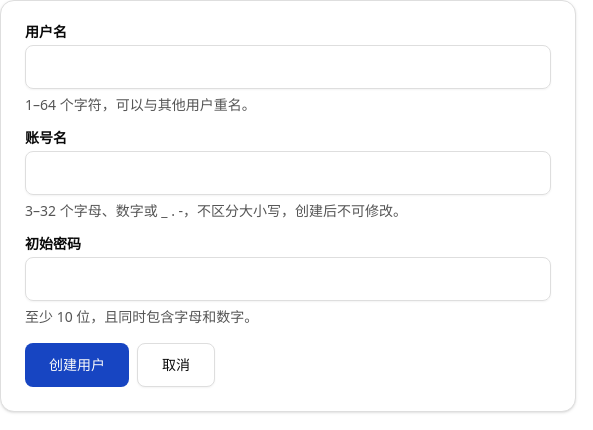
Test: UserForm：提交 › 提交期间按钮禁用并提示进行中（防重复提交）；结束后恢复
Click the button "创建用户" at (77,365), box [25,343,129,387]
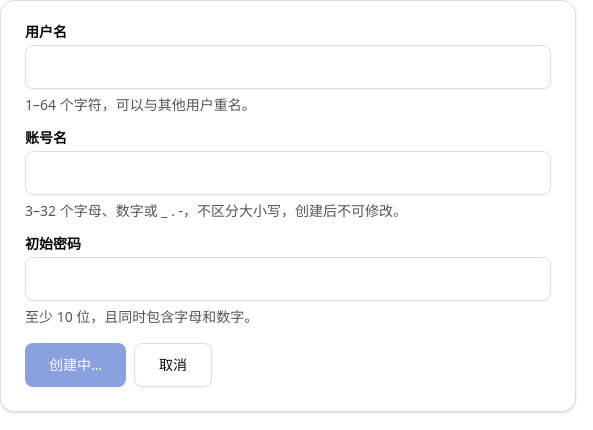
expect the button "创建中…" is disabled: met
Note: 双击：禁用后的按钮不再触发第二次提交
Click the button "创建中…" at (76,365), box [25,343,126,387]
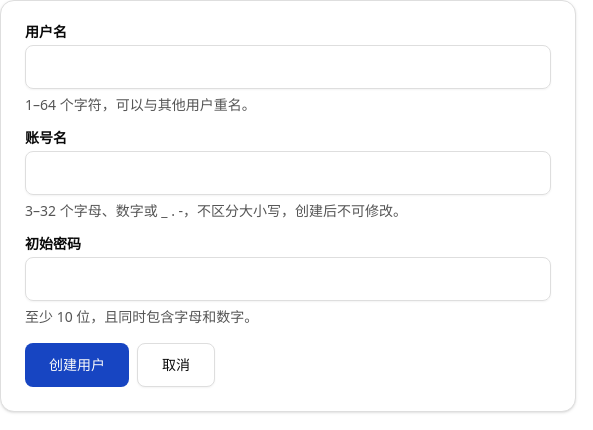
expect the button "创建用户" is enabled: met, box [25,343,129,387]
